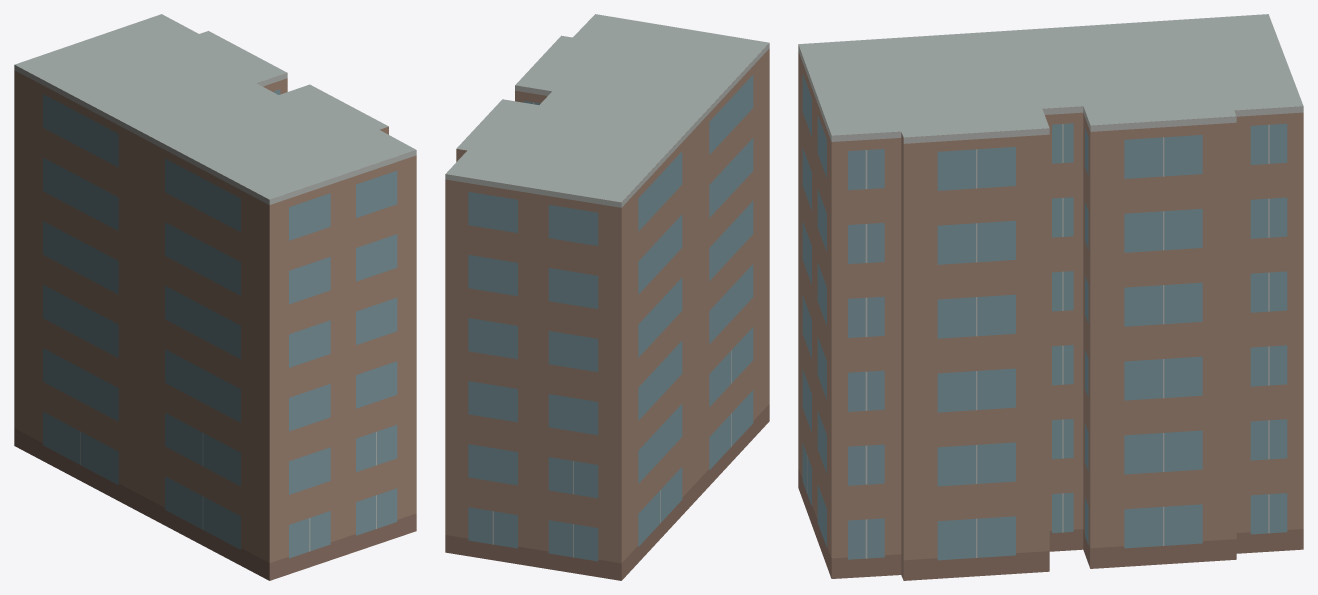
The model's file is survey-upis-32698816.glb.
The picture shows the model from 3 angles, left to right: view 1: azimuth 30°, elevation 25°; view 2: azimuth 150°, elevation 25°; view 3: azimuth 270°, elevation 25°; orthographic projection. The views are drawn at different scales.
Visible parts, largest first — view 1: survey-upis-32698816.tmp; view 2: survey-upis-32698816.tmp; view 3: survey-upis-32698816.tmp.
Boxes of the visible parts, x1,y1,x2,y2 form: survey-upis-32698816.tmp: (14, 14, 416, 580); survey-upis-32698816.tmp: (445, 14, 769, 580); survey-upis-32698816.tmp: (798, 14, 1303, 580).
Size of the model in its own units: 10.23 by 17.1 by 17.68.
